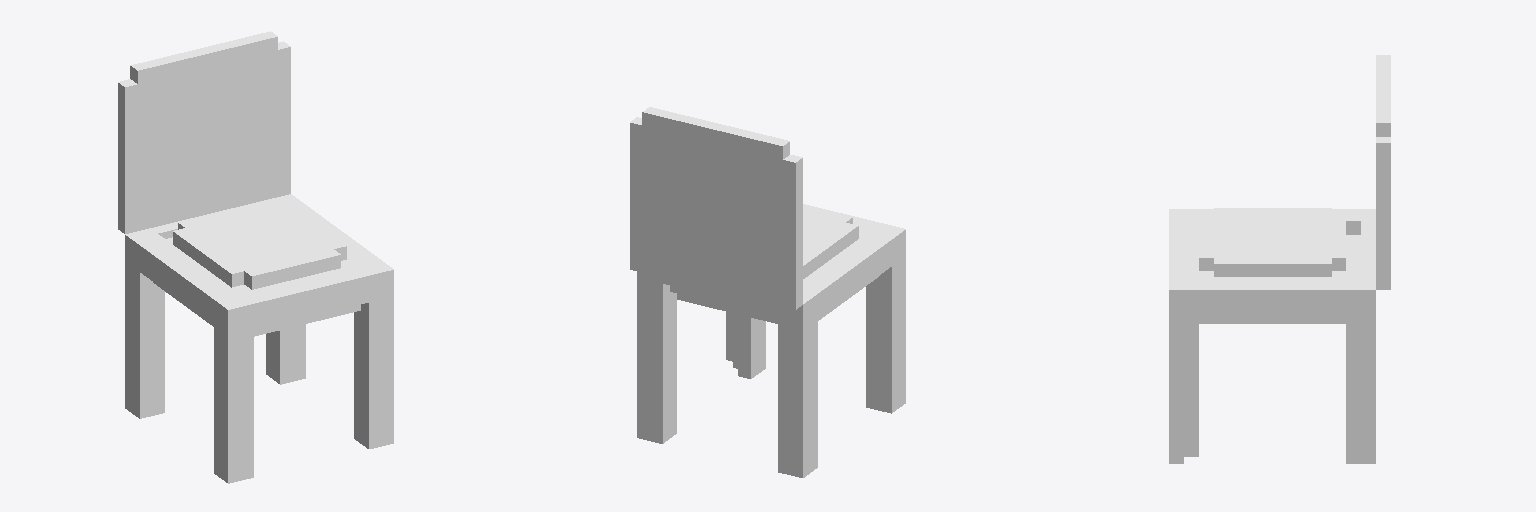
Rendered from stul.obj.
The picture shows the model from 3 angles: view 1: azimuth 30°, elevation 25°; view 2: azimuth 150°, elevation 25°; view 3: azimuth 270°, elevation 25°; orthographic projection.
Parts seen in each view (by area): view 1: object 1; view 2: object 1; view 3: object 1.
Part boxes in pixels (bbox=[...]): object 1: bbox=[118, 31, 393, 483]; object 1: bbox=[630, 107, 905, 477]; object 1: bbox=[1169, 55, 1390, 463].
Size of the model in its own units: 1.3 by 2.5 by 1.5.